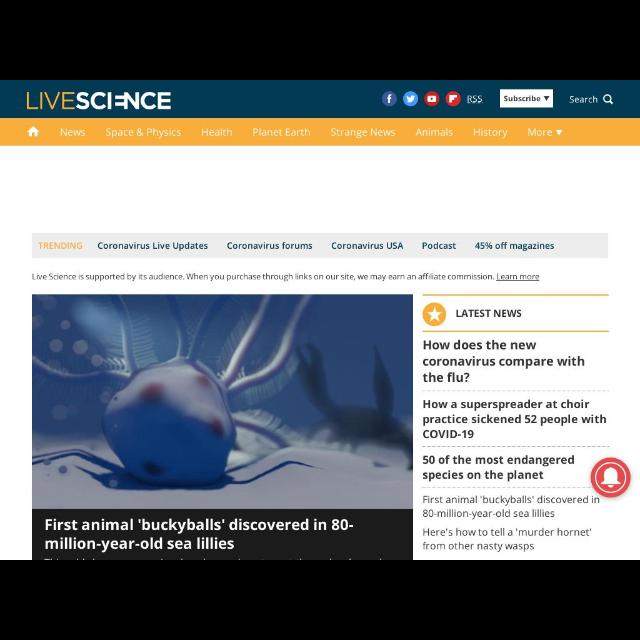button: (592, 458, 630, 498)
icon: (26, 126, 40, 138), (604, 94, 616, 104), (556, 130, 562, 138), (544, 95, 550, 101)
image: (32, 295, 414, 509), (25, 90, 172, 112), (446, 90, 460, 106), (382, 92, 396, 106), (404, 91, 416, 105), (426, 92, 438, 106)
multitab: (1, 118, 639, 146), (32, 235, 608, 258)
spinner: (500, 90, 554, 108), (524, 128, 566, 140)
text: (45, 518, 353, 550), (424, 399, 606, 441), (423, 342, 585, 386), (422, 496, 600, 520), (422, 455, 576, 481), (420, 530, 592, 550), (32, 274, 494, 280), (98, 241, 206, 251), (456, 308, 520, 322), (106, 128, 180, 140), (226, 241, 312, 251), (476, 241, 554, 251), (332, 241, 404, 251), (252, 128, 312, 138), (328, 128, 396, 136), (496, 271, 540, 283), (472, 128, 508, 138), (416, 128, 452, 138), (420, 242, 456, 252), (38, 242, 82, 250), (201, 127, 233, 137), (504, 95, 540, 103), (526, 127, 552, 137), (568, 96, 598, 104), (60, 129, 84, 139), (466, 95, 482, 103)
toolbar: (1, 82, 639, 118)
